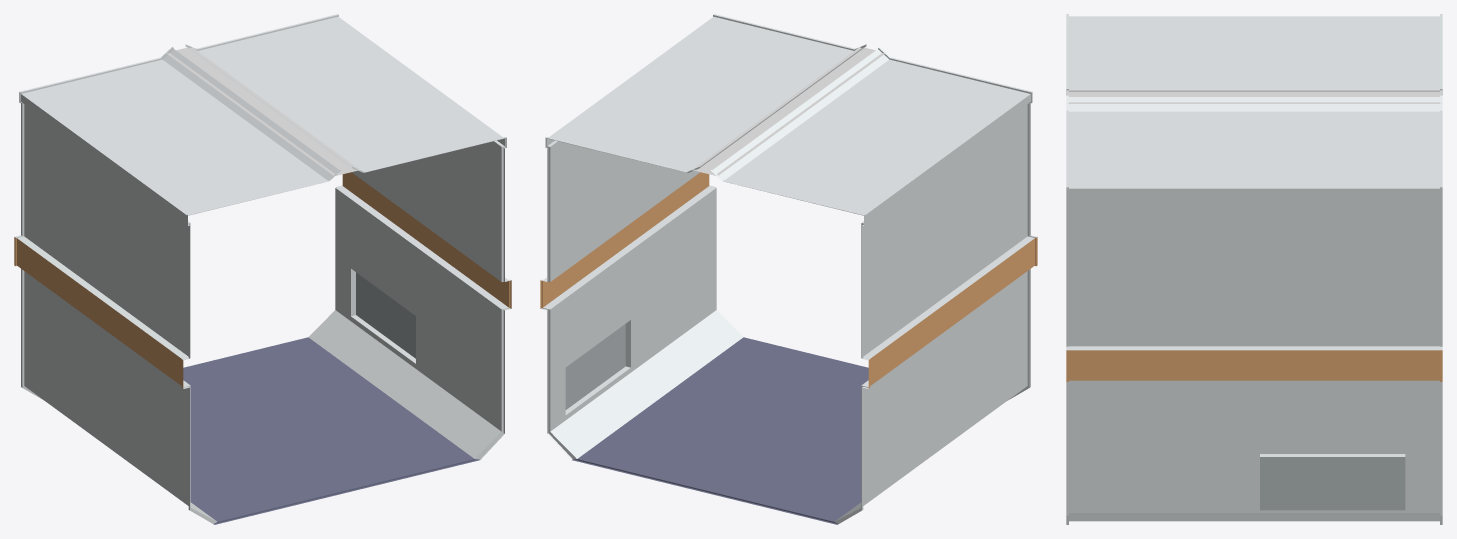
Rendered from GangMHoll.fbx.
3 views of the same model, side by side, from view 1: azimuth 30°, elevation 25°; view 2: azimuth 150°, elevation 25°; view 3: azimuth 270°, elevation 25° (orthographic). The views are drawn at different scales.
Parts seen in each view (by area): view 1: GangMholl; view 2: GangMholl; view 3: GangMholl.
Part boxes in pixels (<box>): GangMholl: <box>14,14,511,524</box>; GangMholl: <box>540,14,1037,524</box>; GangMholl: <box>1066,14,1442,524</box>.
Size of the model in its own units: 2.22 by 2.09 by 1.98.
